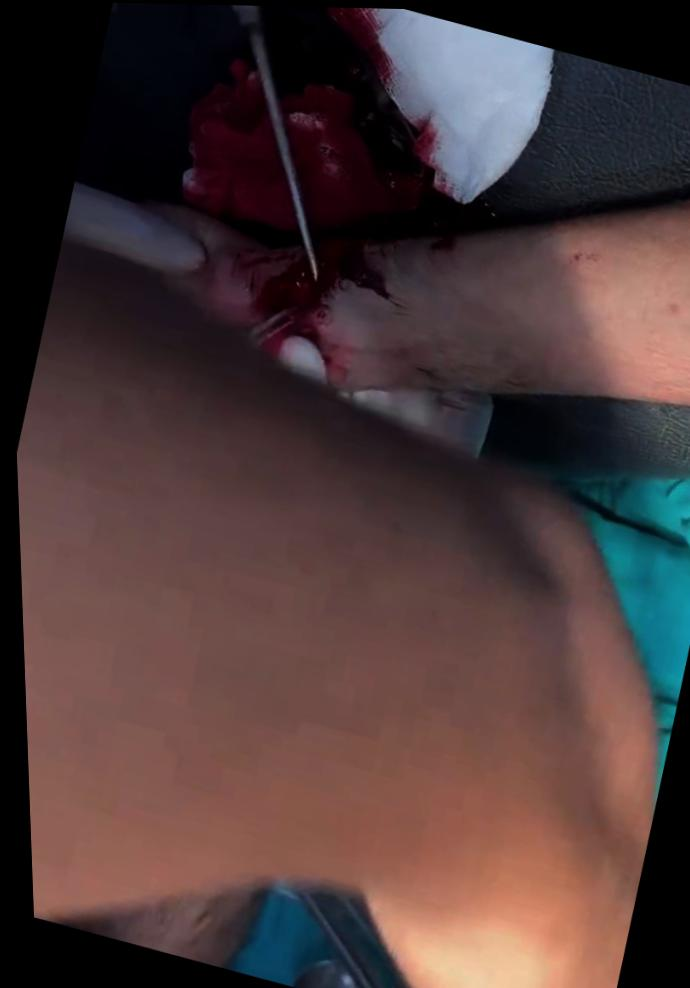Fire: (173, 5, 490, 352)
